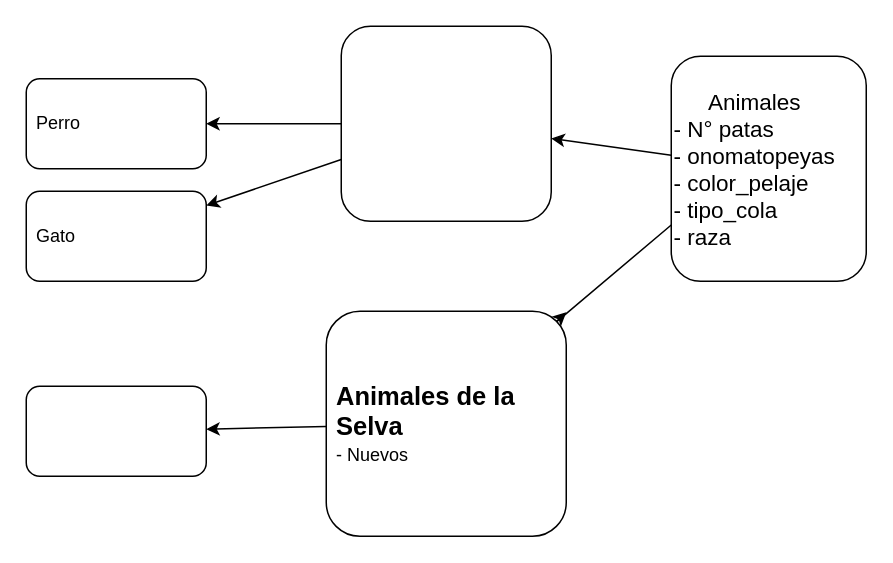
Image size: 893x563. Some labels were removed from this diagram. The centre of each missing label's shape, as x and y in pixels:
Animales del Hogar - Nuevos: (x=445, y=123)
Leon: (x=115, y=430)
